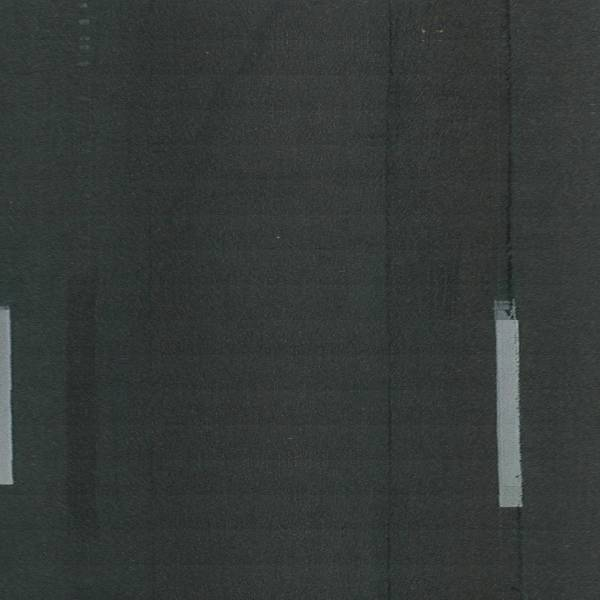road_damage: (503, 20, 517, 290)
